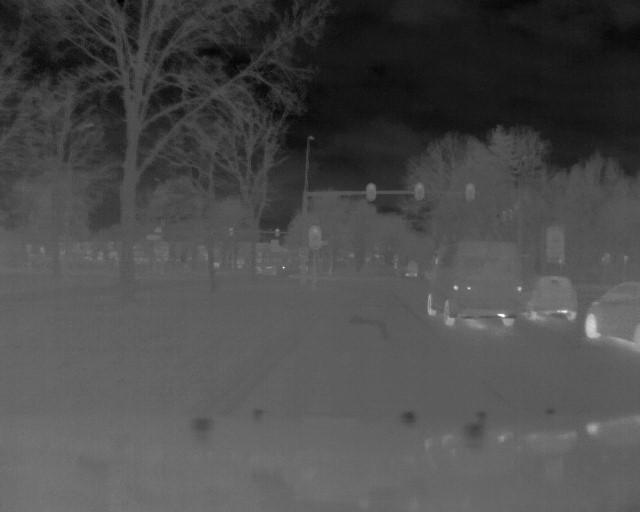car: (430, 241, 525, 336), (587, 278, 640, 346), (532, 271, 579, 325)
